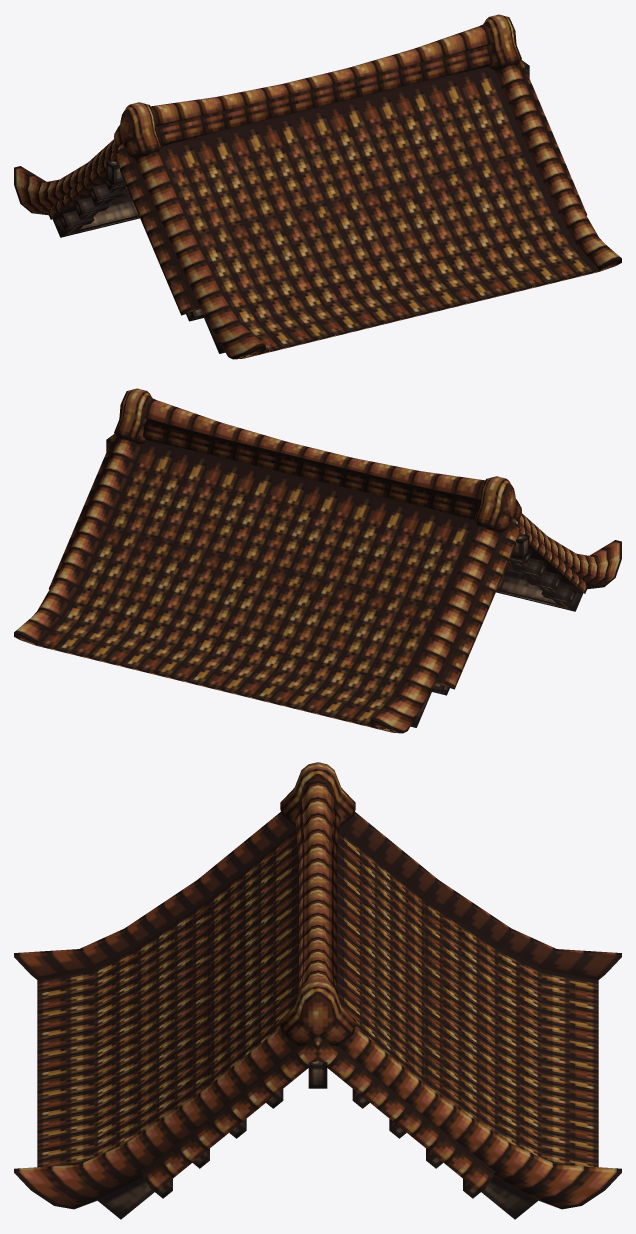
Rendered from EnvBdgMD_Desert_A_Outdoor_House_C_Roof.FBX.
3 views of the same model, one above another, from view 1: azimuth 30°, elevation 25°; view 2: azimuth 150°, elevation 25°; view 3: azimuth 270°, elevation 25° (orthographic). The views are drawn at different scales.
Parts seen in each view (by area): view 1: EnvBdgMD_Desert_A_Outdoor_House_C_Roof; view 2: EnvBdgMD_Desert_A_Outdoor_House_C_Roof; view 3: EnvBdgMD_Desert_A_Outdoor_House_C_Roof.
Boxes of the visible parts, bbox=[...] form: EnvBdgMD_Desert_A_Outdoor_House_C_Roof: bbox=[14, 14, 621, 359]; EnvBdgMD_Desert_A_Outdoor_House_C_Roof: bbox=[14, 388, 621, 733]; EnvBdgMD_Desert_A_Outdoor_House_C_Roof: bbox=[14, 762, 621, 1219].
Size of the model in its own units: 630 by 278 by 644.
